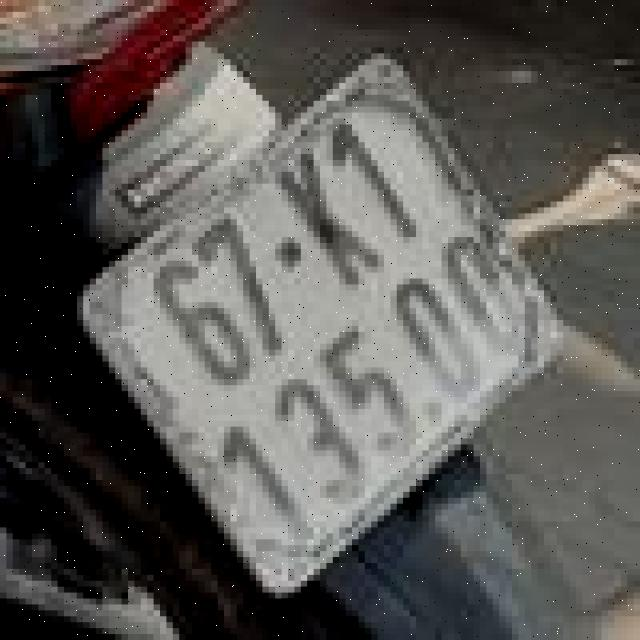0: (377, 260, 501, 415), (429, 217, 543, 365)
1: (313, 93, 442, 259), (202, 402, 332, 558)
3: (257, 361, 386, 514)
5: (307, 312, 439, 472)
6: (131, 242, 272, 406)
7: (183, 205, 311, 372)
K: (261, 136, 404, 305)
